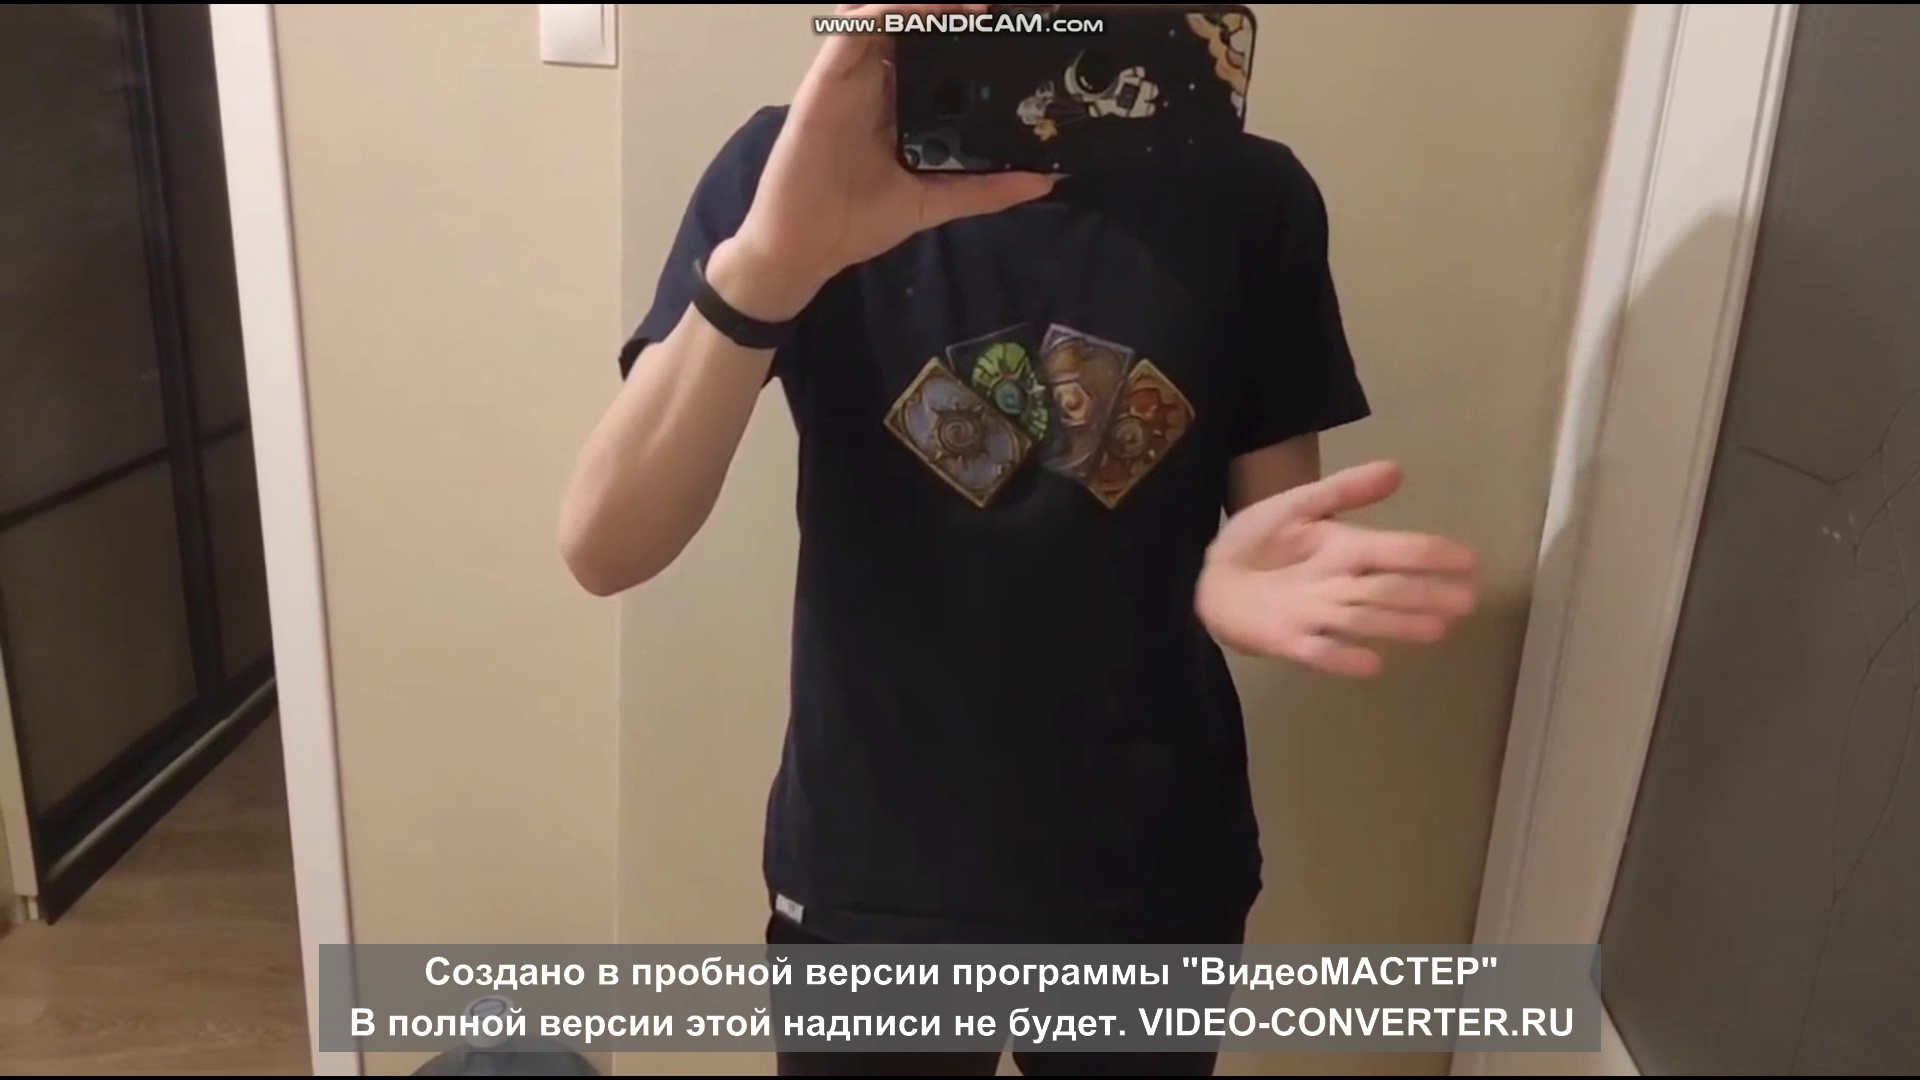Ладонь: (1200, 460, 1478, 680)
